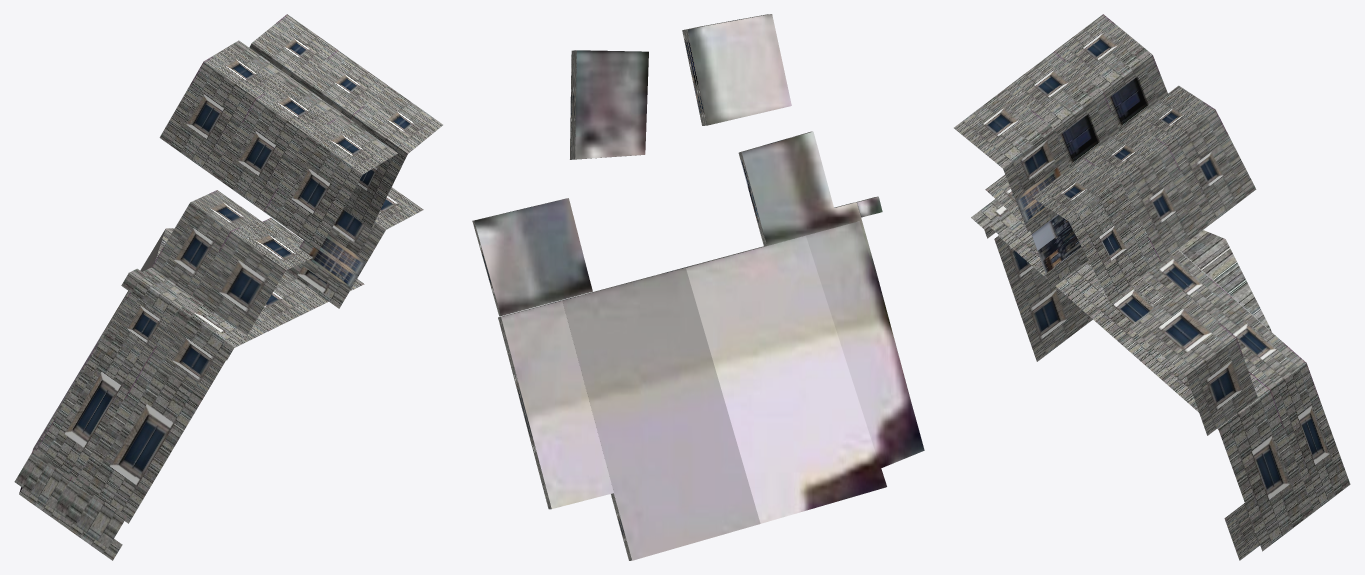
3 views of the same model, side by side, from view 1: azimuth 30°, elevation 25°; view 2: azimuth 150°, elevation 25°; view 3: azimuth 270°, elevation 25° (orthographic). The views are drawn at different scales.
Size of the model in its own units: 23.9 by 27.53 by 19.39.
20 materials, 20 textured.
